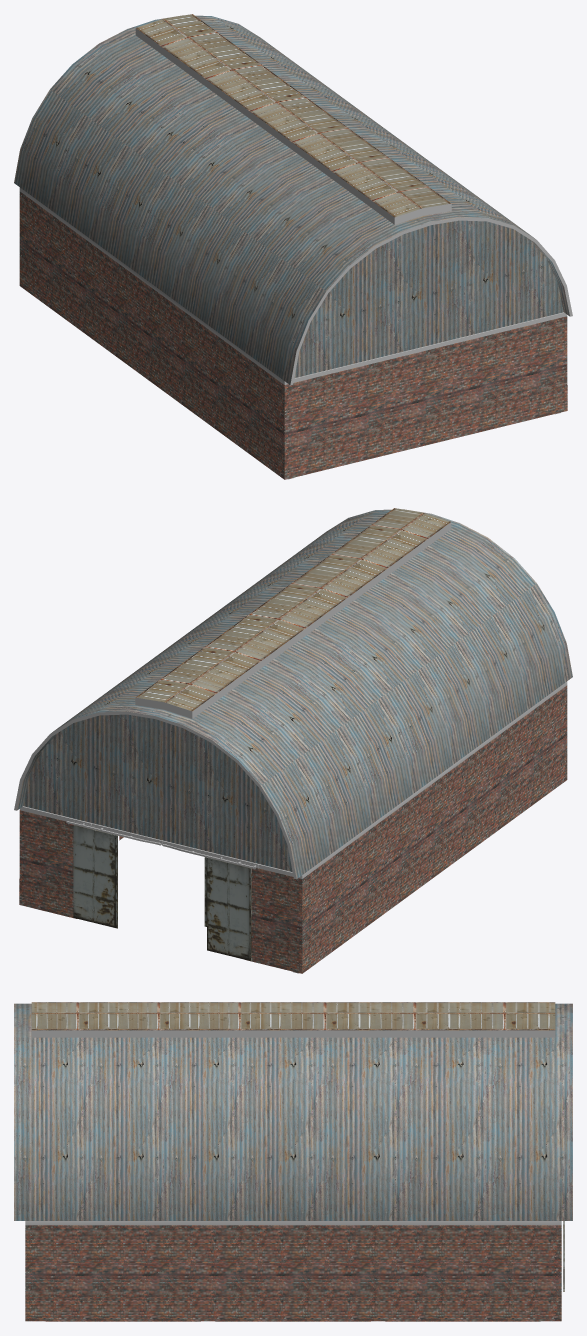
File: building_6_lod1.FBX
3 views of the same model, one above another, from view 1: azimuth 30°, elevation 25°; view 2: azimuth 150°, elevation 25°; view 3: azimuth 270°, elevation 25° (orthographic).
Visible parts, largest first — view 1: Mesh Object; view 2: Mesh Object; view 3: Mesh Object.
Boxes of the visible parts, x1,y1,x2,y2 form: Mesh Object: [14, 14, 572, 479]; Mesh Object: [14, 508, 572, 973]; Mesh Object: [14, 1002, 572, 1321].
Bounding box in the file's own units: 12.55 × 10.1 × 21.23.
